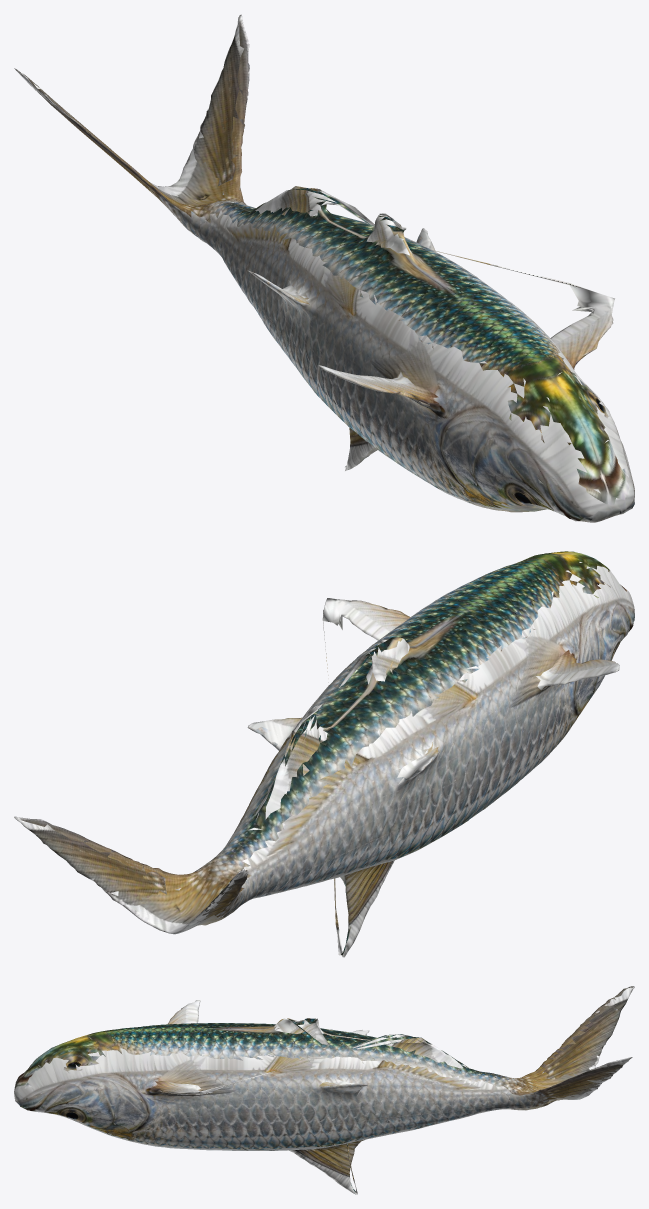
The model's file is fish_tarpon.glb.
The picture shows the model from 3 angles, top to bottom: view 1: azimuth 30°, elevation 25°; view 2: azimuth 150°, elevation 25°; view 3: azimuth 270°, elevation 25°; orthographic projection. The views are drawn at different scales.
Parts seen in each view (by area): view 1: orient; view 2: orient; view 3: orient.
Part boxes in pixels (x1=…): orient: x1=14, y1=14, x2=634, y2=522; orient: x1=14, y1=551, x2=634, y2=957; orient: x1=14, y1=986, x2=634, y2=1194.
Bounding box in the file's own units: 0.6793 × 0.6195 × 1.96.
1 material, 1 textured.
